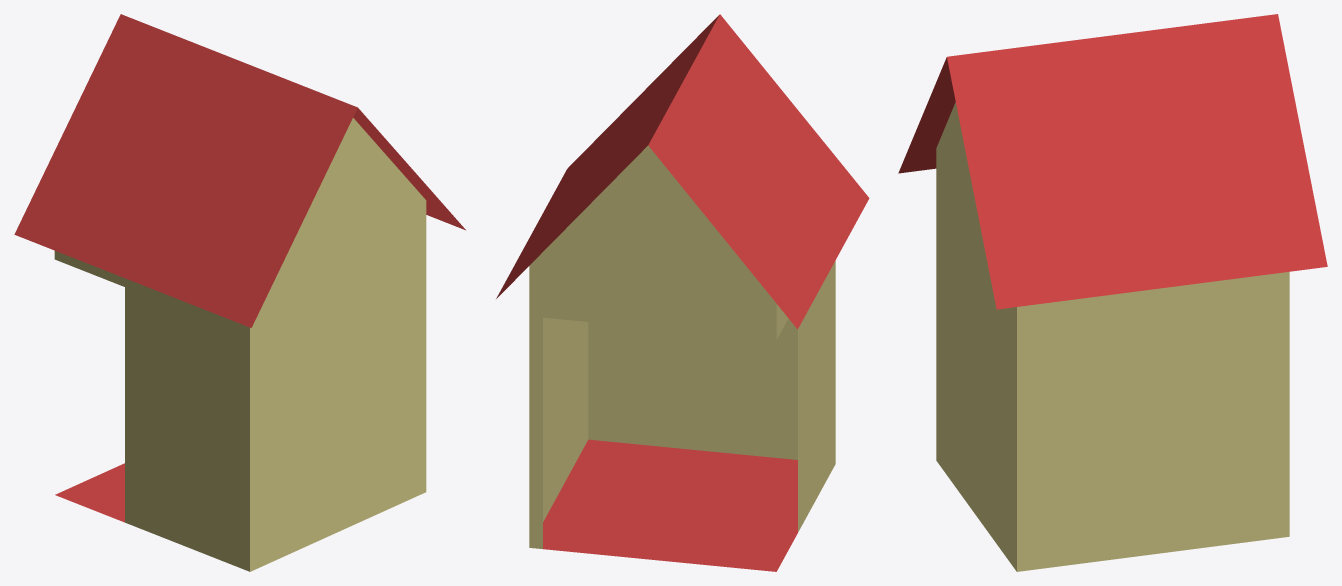
The picture shows the model from 3 angles, left to right: view 1: azimuth 30°, elevation 25°; view 2: azimuth 150°, elevation 25°; view 3: azimuth 270°, elevation 25°; orthographic projection. The views are drawn at different scales.
Parts seen in each view (by area): view 1: group_5, group_3, group_6, group_4; view 2: group_5, group_3, group_6, group_4; view 3: group_5, group_3, group_4.
Part boxes in pixels (bbox=[...]): group_5: bbox=[54, 118, 426, 571]; group_3: bbox=[14, 15, 465, 327]; group_6: bbox=[55, 463, 124, 522]; group_4: bbox=[100, 14, 464, 304]; group_5: bbox=[529, 134, 835, 548]; group_3: bbox=[496, 14, 869, 329]; group_6: bbox=[543, 439, 797, 571]; group_4: bbox=[561, 17, 716, 205]; group_5: bbox=[936, 102, 1289, 571]; group_3: bbox=[947, 14, 1327, 309]; group_4: bbox=[898, 57, 1141, 309].
Size of the model in its own units: 13.87 by 14.08 by 16.73.
